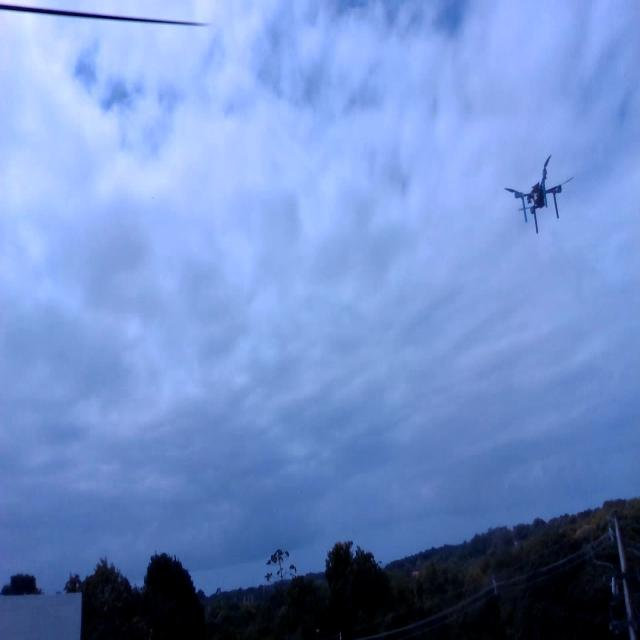-uav-: (502, 151, 576, 237)
